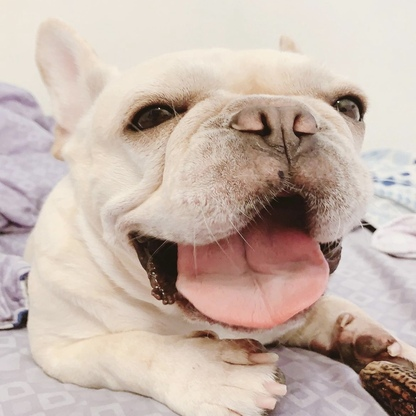bulldog: (22, 15, 415, 413)
